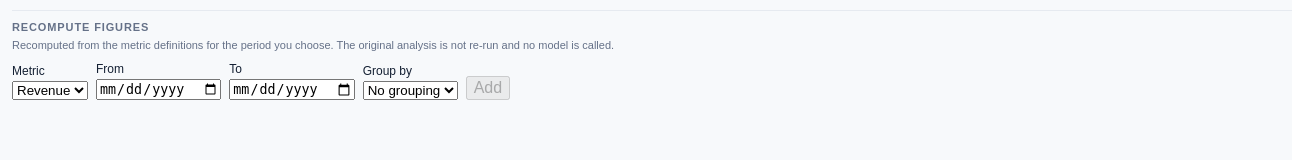
Test case: ReportRefresh › offers a bucket only when grouping by period
The width and height of the screenshot is (1292, 160).
Check: the field labelled "Bucket" is not shown
Select "period" in the dropdown labelled "Group by" at (410, 90), box [363,81,458,100]
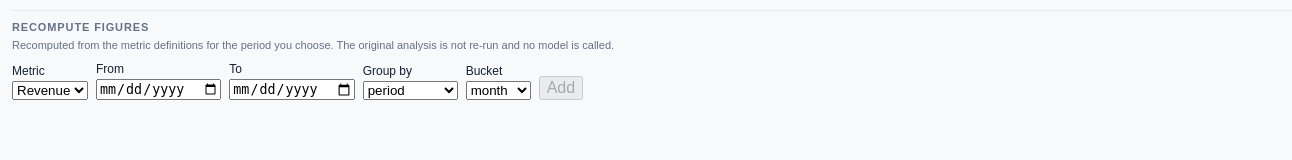
Check: the dropdown labelled "Bucket" is shown, box [466,81,531,100]
